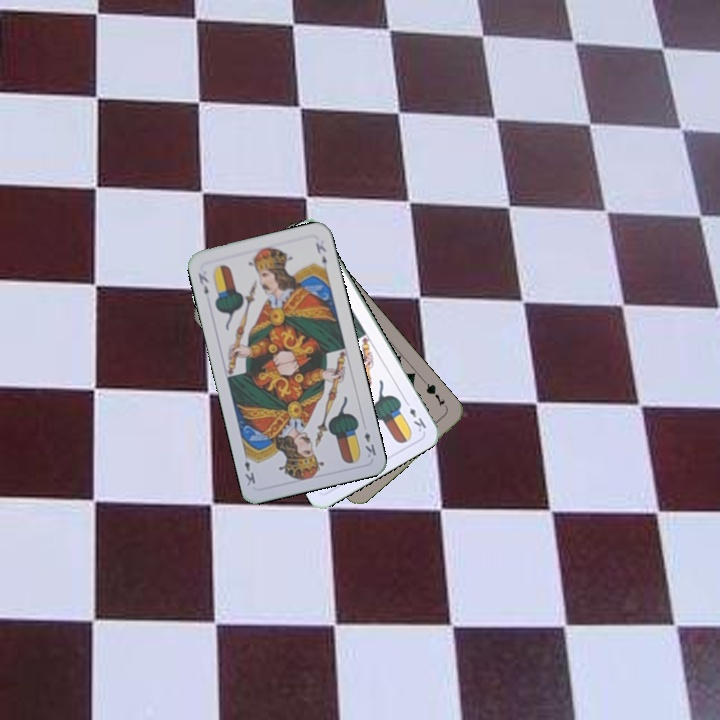EK: (401, 396, 429, 435), (360, 428, 379, 460), (194, 269, 211, 297)
G7: (420, 377, 450, 411)
